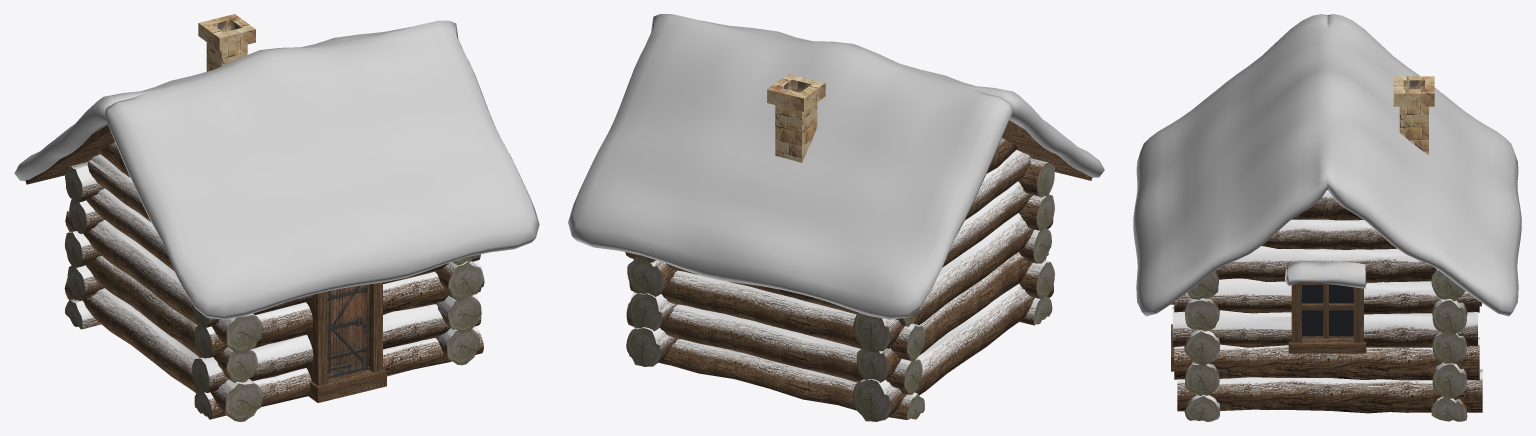
The model's file is hut.obj.
The picture shows the model from 3 angles, left to right: view 1: azimuth 30°, elevation 25°; view 2: azimuth 150°, elevation 25°; view 3: azimuth 270°, elevation 25°; orthographic projection. The views are drawn at different scales.
Visible parts, largest first — view 1: mSnow, mLogSide, mLogFront, mWood, mDoor, mBrick; view 2: mSnow, mLogSide, mLogFront, mBrick, mWood; view 3: mSnow, mLogSide, mLogFront, mWood, mBrick, mWindowGlass.
Part boxes in pixels (bbox=[...]): mSnow: bbox=[14, 20, 539, 319]; mLogSide: bbox=[64, 142, 484, 419]; mLogFront: bbox=[64, 166, 483, 421]; mWood: bbox=[25, 125, 386, 402]; mDoor: bbox=[327, 284, 369, 379]; mBrick: bbox=[198, 14, 255, 71]; mSnow: bbox=[568, 14, 1104, 319]; mLogSide: bbox=[625, 138, 1053, 419]; mLogFront: bbox=[626, 162, 1054, 421]; mBrick: bbox=[767, 74, 825, 162]; mWood: bbox=[723, 120, 1092, 349]; mSnow: bbox=[1133, 14, 1521, 316]; mLogSide: bbox=[1171, 190, 1482, 416]; mLogFront: bbox=[1184, 270, 1467, 421]; mWood: bbox=[1171, 187, 1366, 371]; mBrick: bbox=[1393, 76, 1434, 154]; mWindowGlass: bbox=[1302, 285, 1353, 336].
Bounding box in the file's own units: 0.52 × 0.4026 × 0.506.
7 materials, 5 textured.
